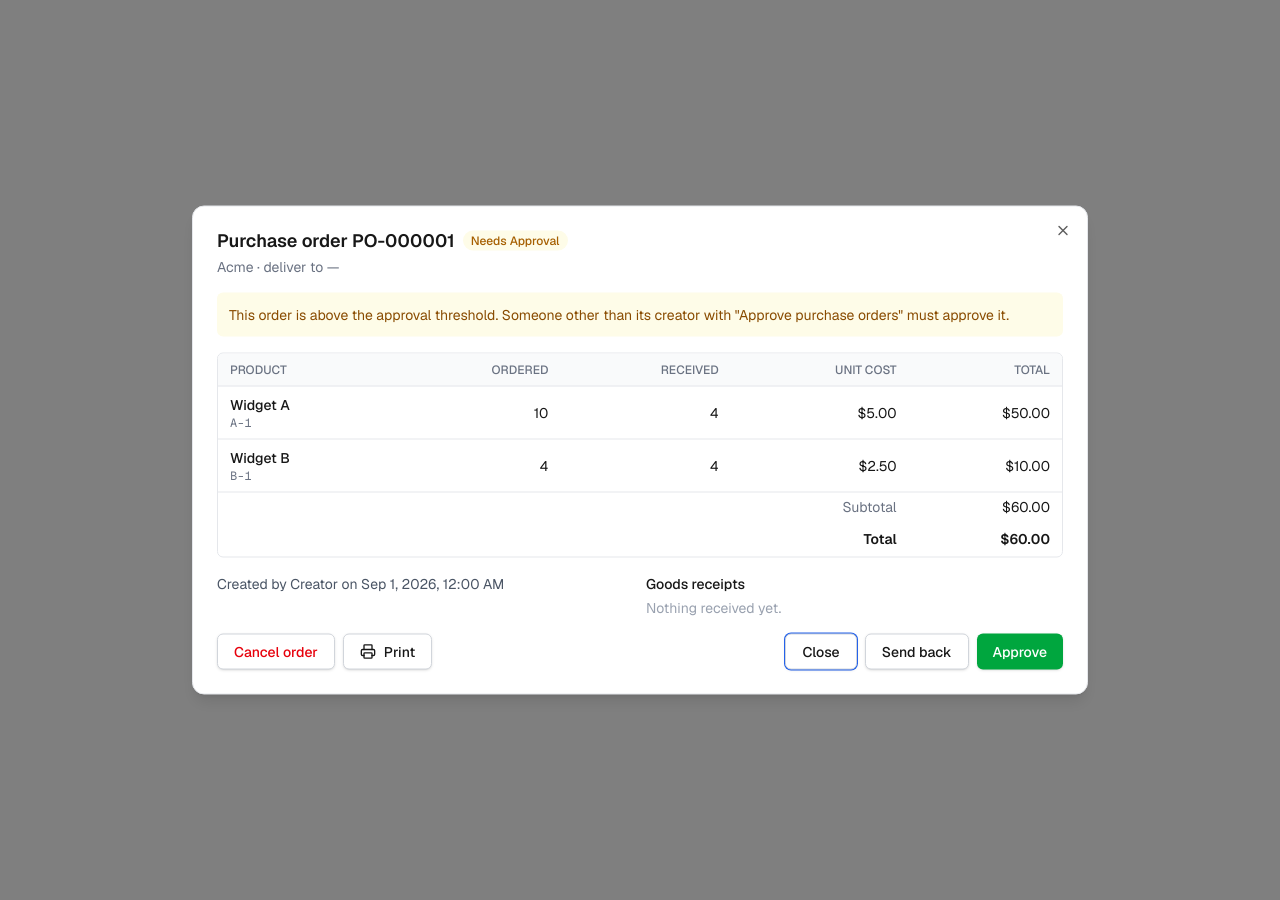
Test: PurchaseOrderDetailDialog › offers approval on an order waiting for it
Expected: the text "above the approval threshold" is shown, [229,306,1009,324]
Step 1. Click the button "Approve" → [1020, 652], box [976,634,1063,670]
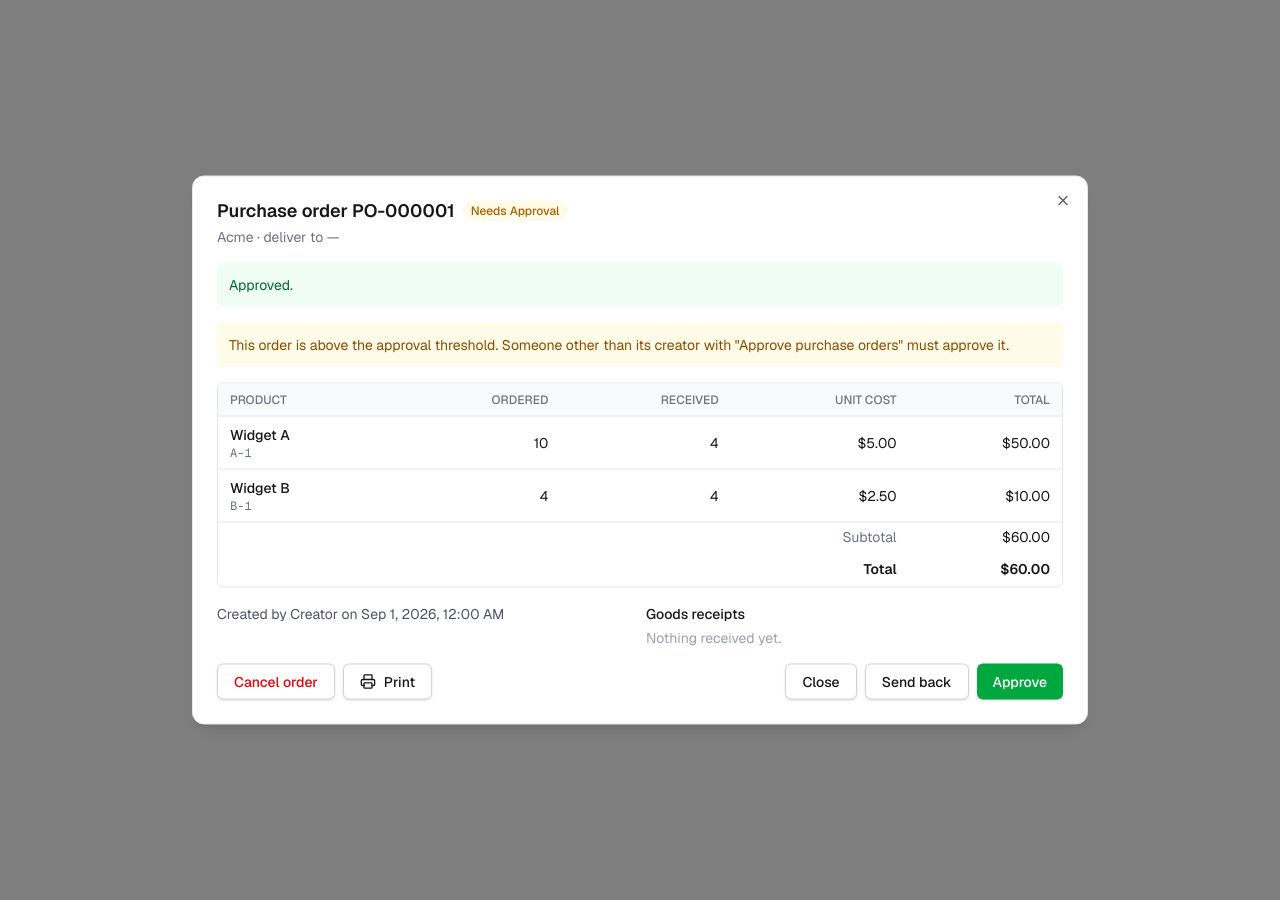
Expected: the text "Approved." is shown, [217,262,1063,306]
